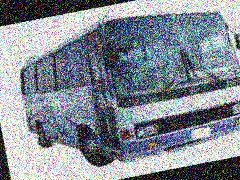bus: (10, 0, 240, 180)
